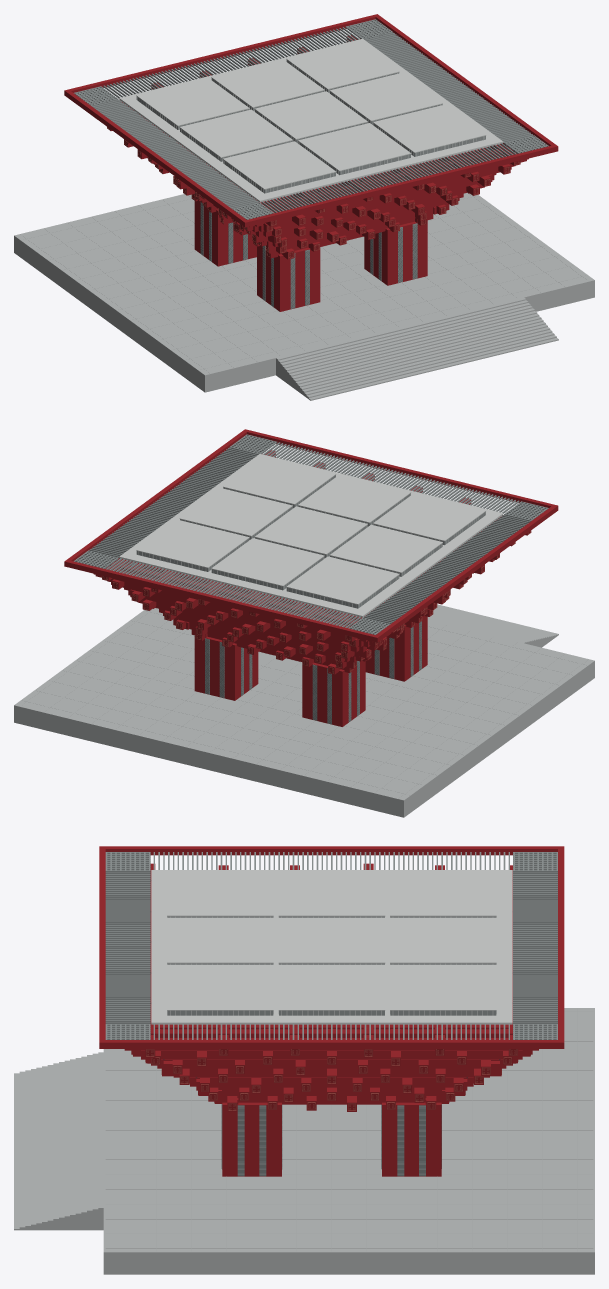
Rendered from pavilion.glb.
3 views of the same model, one above another, from view 1: azimuth 30°, elevation 25°; view 2: azimuth 150°, elevation 25°; view 3: azimuth 270°, elevation 25° (orthographic). The views are drawn at different scales.
Visible parts, largest first — view 1: Platform.003, Nine roof volumes.007, Roof perimeter fins.003, Stairs.003, Roof rim.003, Piers.006, Roof deck.003, Paving.003, Nine roof volumes.006, Piers.007, Beam caps.003, Pier louvers.003 (+13 smaller); view 2: Platform.003, Nine roof volumes.007, Roof perimeter fins.003, Roof rim.003, Piers.006, Roof deck.003, Paving.003, Nine roof volumes.006, Piers.007, Beam caps.003, Stairs.003, Pier louvers.003 (+13 smaller); view 3: Platform.003, Nine roof volumes.007, Roof perimeter fins.003, Stairs.003, Roof rim.003, Roof deck.003, Piers.006, Paving.003, Crossbeams 06.001, Beam caps.003, Nine roof volumes.006, Long beams 05.001 (+13 smaller).
Part boxes in pixels (x1,y1,x2,y2): Platform.003: (14, 192, 594, 392); Nine roof volumes.007: (136, 41, 486, 189); Roof perimeter fins.003: (74, 19, 548, 219); Stairs.003: (276, 297, 558, 400); Roof rim.003: (64, 14, 558, 227); Piers.006: (194, 201, 427, 311); Roof deck.003: (119, 38, 503, 202); Paving.003: (21, 194, 587, 372); Nine roof volumes.006: (136, 60, 485, 193); Piers.007: (200, 202, 417, 308); Beam caps.003: (107, 127, 519, 258); Pier louvers.003: (200, 202, 417, 308); Platform.003: (14, 608, 594, 817); Nine roof volumes.007: (136, 456, 486, 604); Roof perimeter fins.003: (74, 434, 548, 634); Roof rim.003: (64, 429, 558, 642); Piers.006: (194, 616, 427, 726); Roof deck.003: (119, 454, 503, 617); Paving.003: (21, 609, 587, 797); Nine roof volumes.006: (136, 475, 485, 608); Piers.007: (205, 621, 421, 724); Beam caps.003: (102, 530, 531, 673); Stairs.003: (427, 604, 558, 647); Pier louvers.003: (205, 621, 421, 723); Platform.003: (103, 1008, 594, 1274); Nine roof volumes.007: (167, 870, 496, 1010); Roof perimeter fins.003: (105, 852, 557, 1039); Stairs.003: (14, 1052, 103, 1230); Roof rim.003: (99, 846, 564, 1048); Roof deck.003: (151, 870, 512, 1024); Piers.006: (222, 1102, 441, 1176); Paving.003: (106, 1008, 592, 1251); Crossbeams 06.001: (145, 863, 518, 1057); Beam caps.003: (145, 1049, 530, 1111); Nine roof volumes.006: (167, 916, 496, 1015); Long beams 05.001: (141, 1050, 522, 1063).
Size of the model in its own units: 33 by 13.35 by 33.12.
